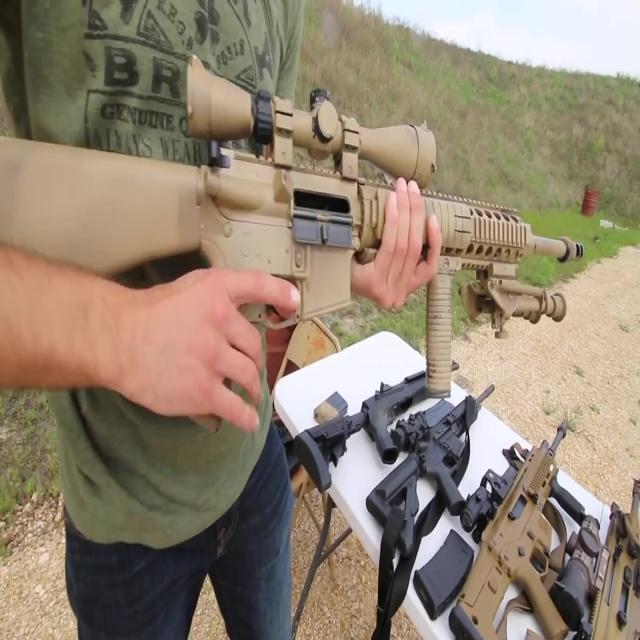Weapon: (1, 69, 596, 422), (293, 310, 640, 640)
